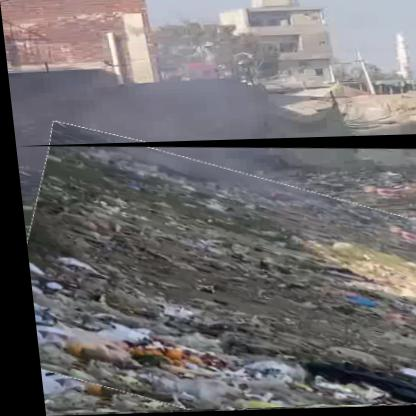Garbage: (13, 137, 416, 416)
